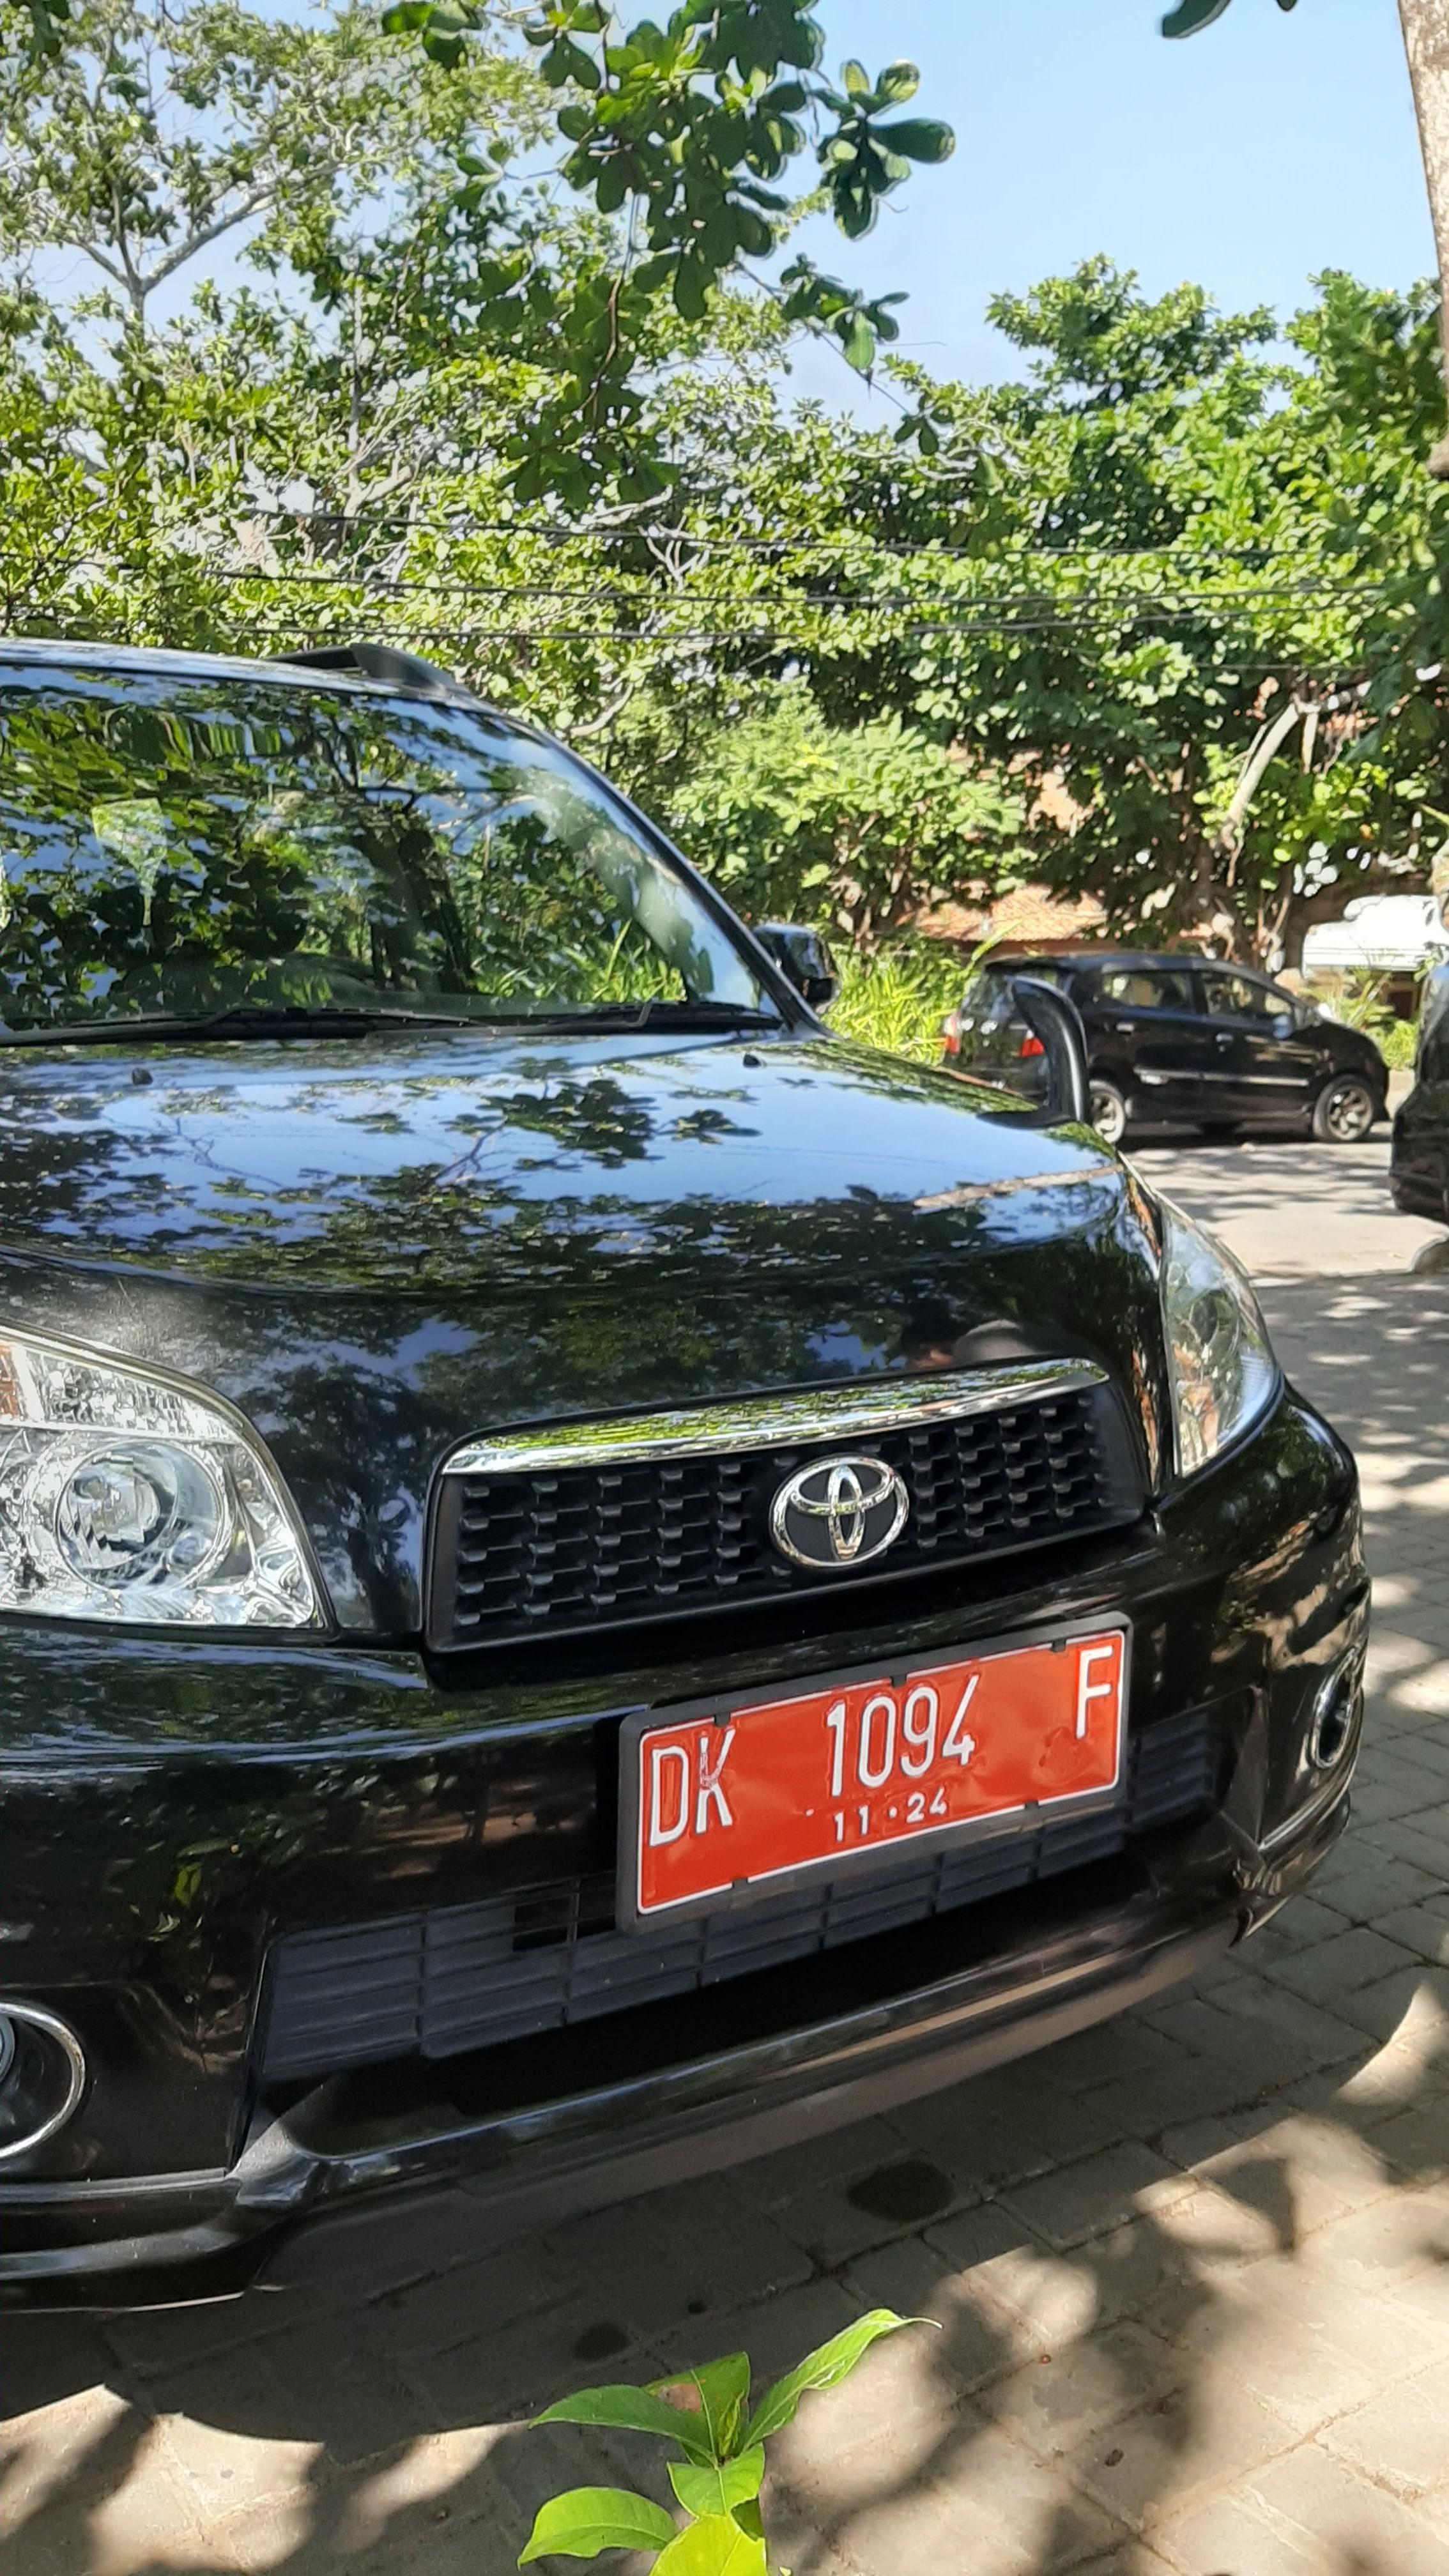plate: (631, 1630, 1142, 1918)
